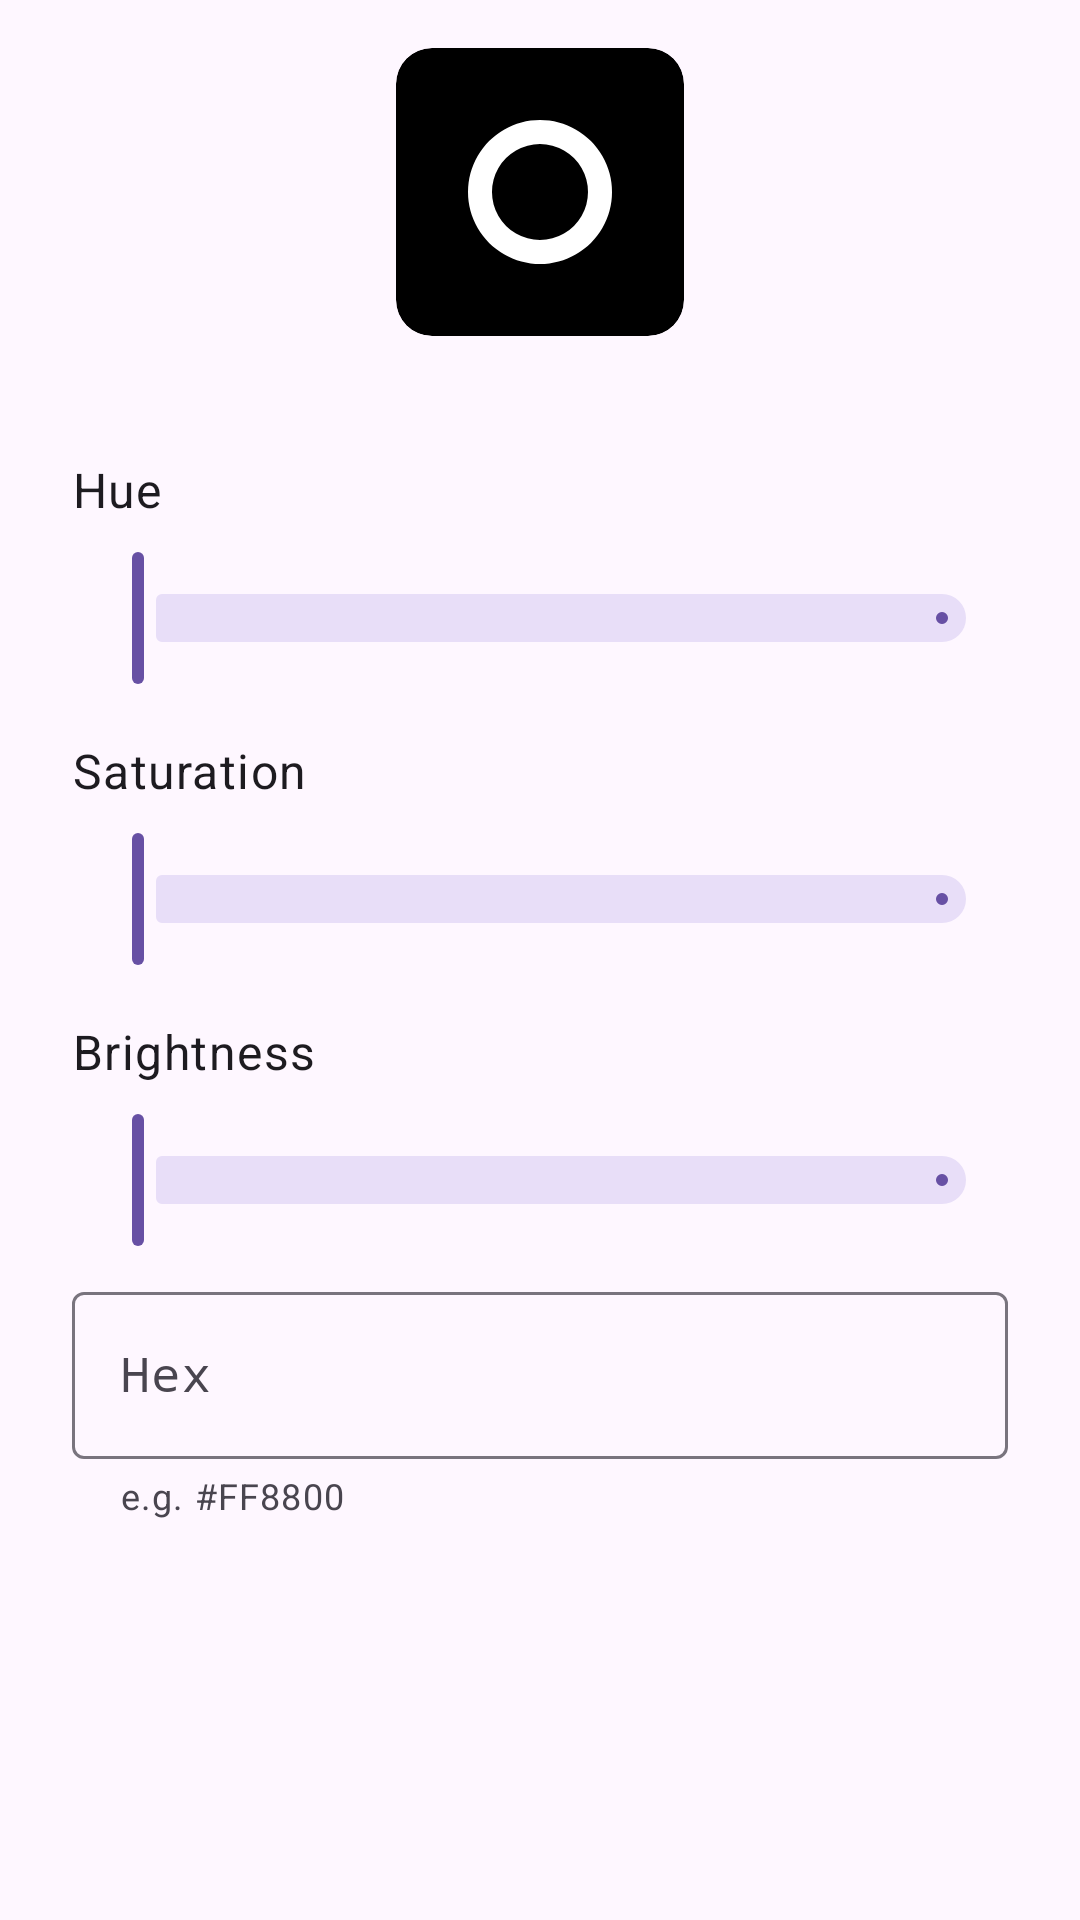

Named icons in this screenshot (1080 × 1920) and their bounding boxes, bbox=(x1, y1, x2, y2):
ring: bbox=(396, 48, 684, 336)
